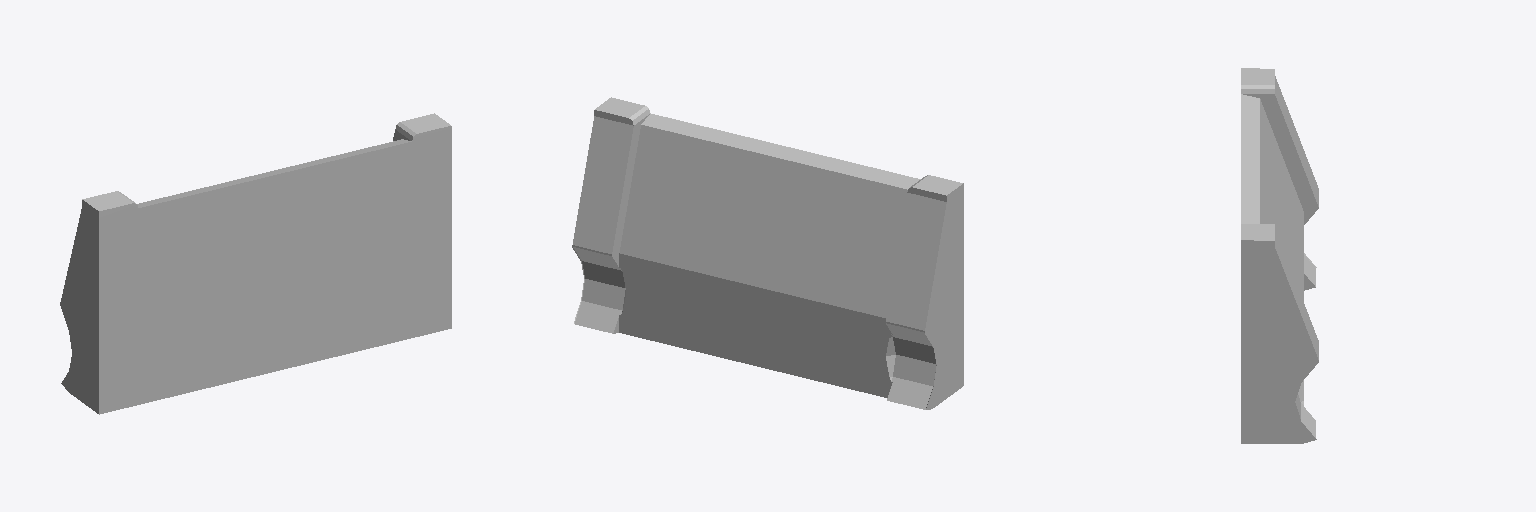
The model's file is couch_cushion2.obj.
The picture shows the model from 3 angles: view 1: azimuth 30°, elevation 25°; view 2: azimuth 150°, elevation 25°; view 3: azimuth 270°, elevation 25°; orthographic projection.
Visible parts, largest first — view 1: Cube.005_Cube.007; view 2: Cube.005_Cube.007; view 3: Cube.005_Cube.007.
Part boxes in pixels (left/top/right/bottom): Cube.005_Cube.007: left=60, top=113, right=451, bottom=414; Cube.005_Cube.007: left=572, top=97, right=963, bottom=409; Cube.005_Cube.007: left=1241, top=68, right=1318, bottom=443.
Size of the model in its own units: 5.22 by 2.87 by 0.9894.